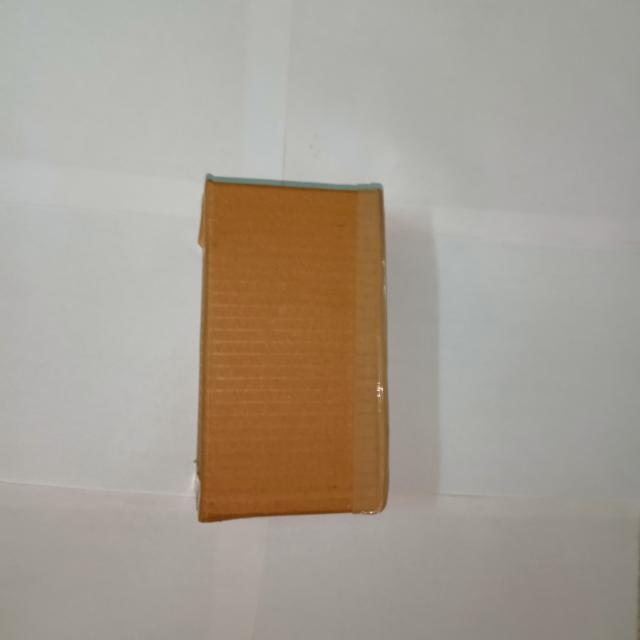box: (208, 182, 387, 514)
